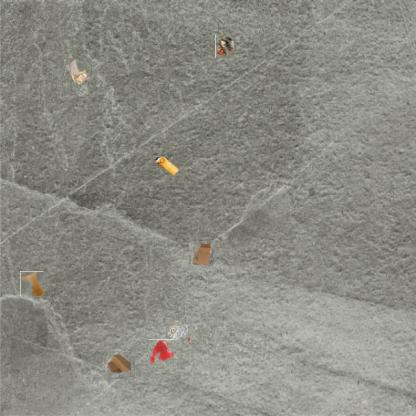dirty: (106, 350, 134, 378), (65, 58, 91, 84), (152, 154, 180, 178), (190, 241, 214, 265), (215, 34, 236, 58), (167, 320, 189, 342)
liquid: (148, 339, 174, 364), (20, 271, 43, 296)
